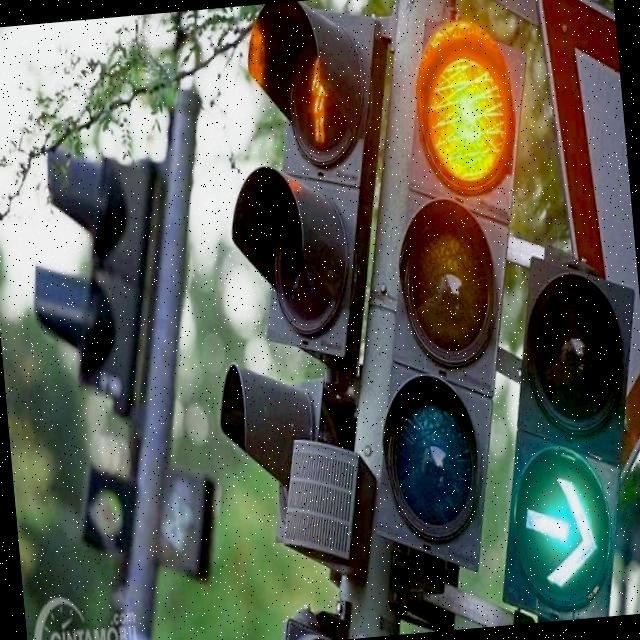Czerwone swiatlo: (364, 2, 556, 596)
